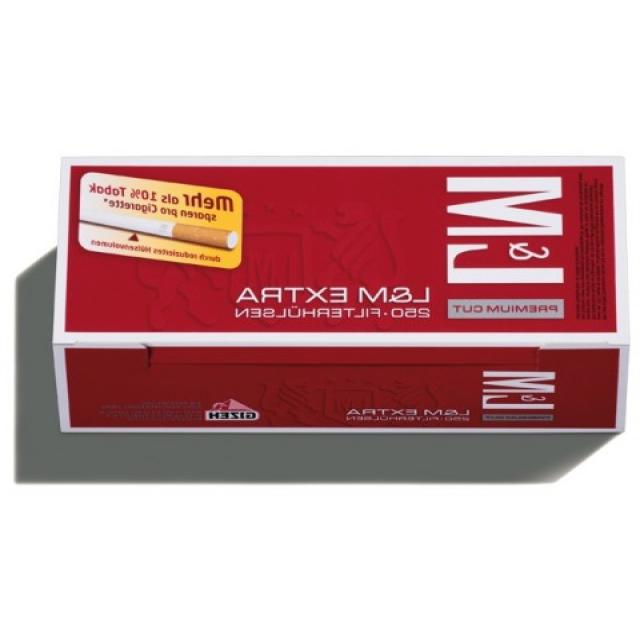lm: (57, 159, 628, 438)
